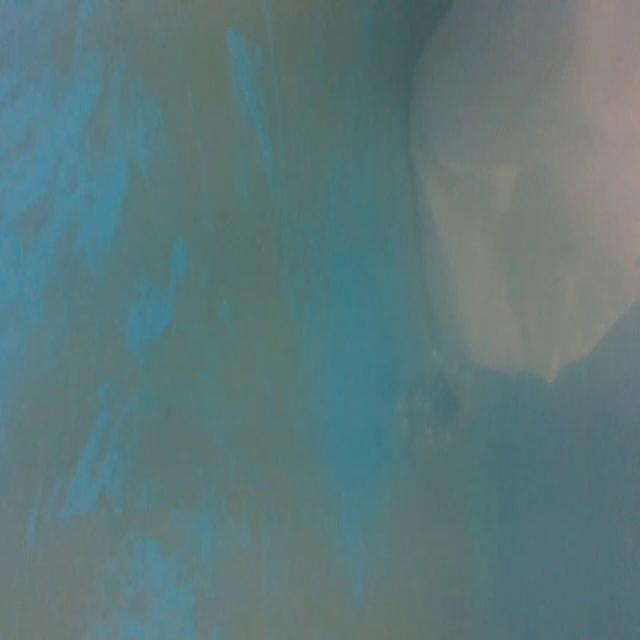plastic bags: (406, 6, 639, 380)
